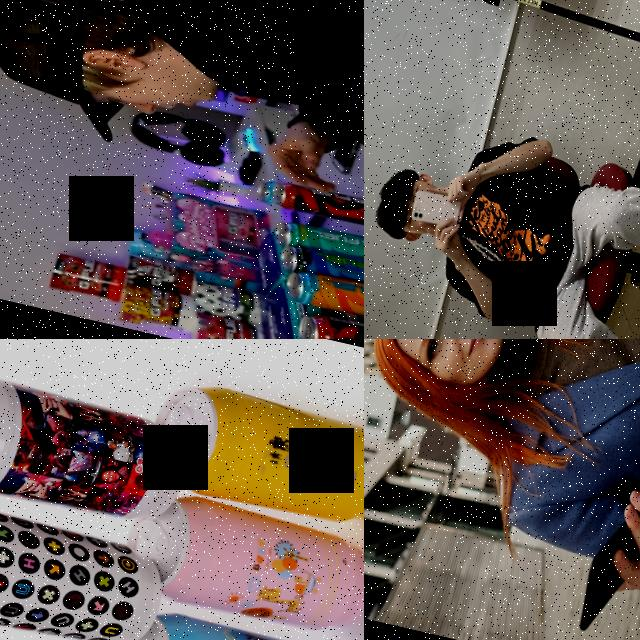can: (114, 480, 364, 640), (140, 372, 364, 535), (0, 366, 198, 537), (0, 487, 177, 640), (94, 597, 364, 640), (274, 235, 364, 294), (269, 213, 364, 268), (281, 264, 364, 326), (270, 178, 364, 228), (295, 307, 364, 339)
